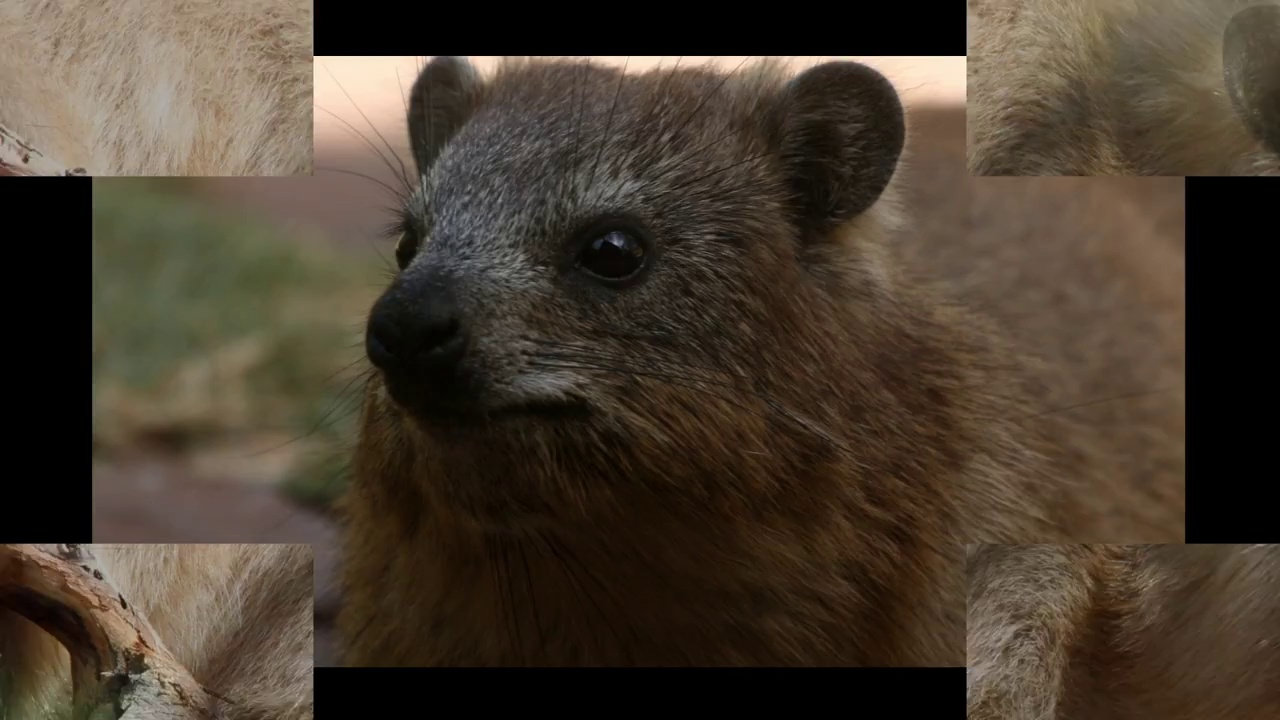Rock Hyrex: (342, 55, 956, 667)
